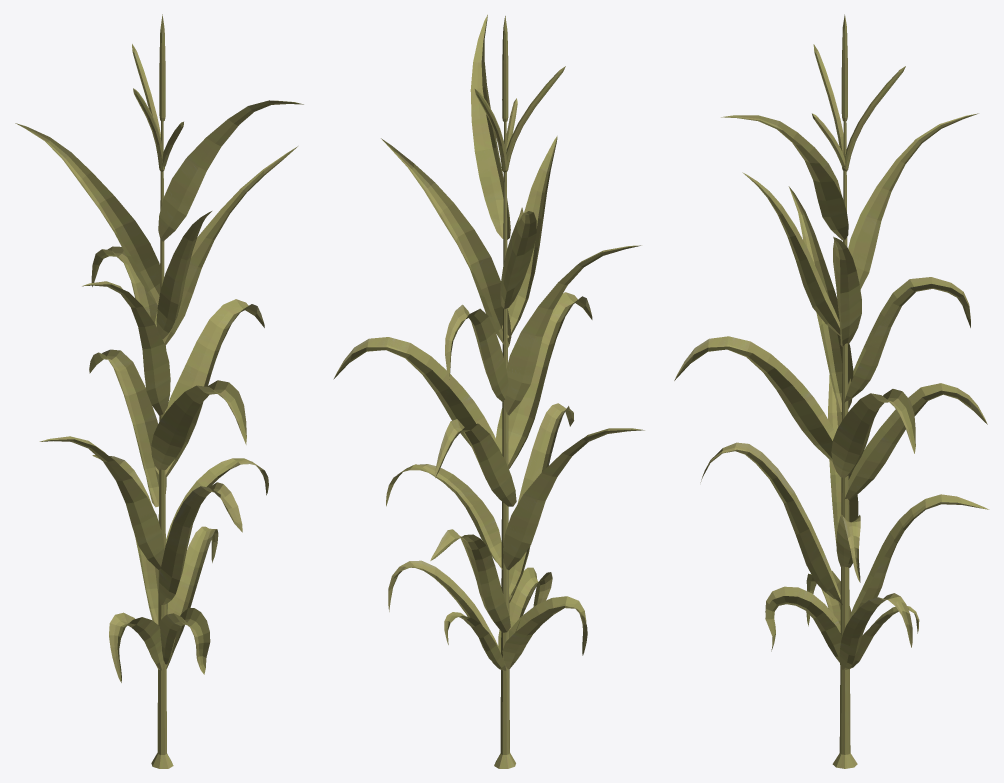
File: corn.obj
3 renders of one model, left to right at view 1: azimuth 30°, elevation 25°; view 2: azimuth 150°, elevation 25°; view 3: azimuth 270°, elevation 25°, orthographic.
Visible parts, largest first — view 1: Plane.008, Plane.012, Plane.004, Plane.007, Plane.009, Plane.001, Plane.013, Plane.010, Plane.016, Plane.002, Plane.003, Cylinder (+8 smaller); view 2: Plane.016, Plane.012, Plane.009, Plane.010, Plane.004, Plane.013, Cylinder, Plane.007, Plane, Plane.011, Plane.006, Plane.001 (+9 smaller); view 3: Plane.004, Plane.001, Plane.009, Plane.007, Plane.011, Plane.008, Plane.012, Cylinder, Plane.010, Plane.002, Plane, Plane.005 (+9 smaller).
Part boxes in pixels (x1,y1,x2,y2): Plane.008: (15, 123, 159, 305); Plane.012: (158, 100, 303, 241); Plane.004: (151, 380, 246, 470); Plane.007: (89, 349, 166, 507); Plane.009: (155, 299, 264, 477); Plane.001: (159, 482, 242, 604); Plane.013: (39, 436, 164, 569); Plane.010: (82, 281, 170, 415); Plane.016: (154, 146, 297, 345); Plane.002: (156, 211, 211, 338); Plane.003: (166, 526, 218, 668); Cylinder: (157, 121, 166, 754); Plane.016: (381, 138, 511, 348); Plane.012: (470, 14, 510, 239); Plane.009: (333, 337, 495, 445); Plane.010: (504, 245, 641, 415); Plane.004: (495, 292, 592, 468); Plane.013: (503, 428, 644, 569); Cylinder: (500, 122, 509, 754); Plane.007: (435, 419, 516, 506); Plane: (430, 529, 510, 632); Plane.011: (445, 304, 508, 402); Plane.006: (386, 464, 502, 569); Plane.001: (509, 403, 574, 602); Plane.004: (674, 336, 835, 461); Plane.001: (700, 442, 842, 604); Plane.009: (831, 389, 915, 478); Plane.007: (844, 383, 987, 500); Plane.011: (844, 277, 970, 402); Plane.008: (848, 113, 978, 289); Plane.012: (721, 115, 848, 240); Cylinder: (839, 121, 850, 754); Plane.010: (788, 186, 853, 411); Plane.002: (742, 172, 840, 335); Plane: (849, 494, 989, 619); Plane.005: (765, 586, 841, 662).
Size of the model in its own units: 1.62 by 4.31 by 1.64.
Materials: 1 (1 with a texture image).
